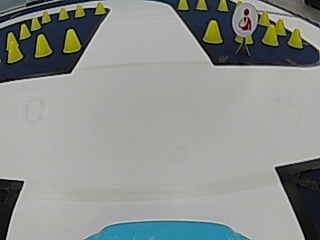cone: (34, 35, 55, 58), (205, 21, 224, 44), (6, 38, 23, 61), (65, 30, 81, 54), (264, 24, 279, 47), (289, 29, 305, 50), (73, 3, 86, 17), (19, 22, 31, 37), (194, 0, 210, 11), (57, 7, 70, 20), (94, 2, 107, 15), (177, 2, 191, 10), (218, 1, 228, 12), (40, 9, 47, 21), (32, 20, 41, 29)
patient: (235, 7, 258, 33)
